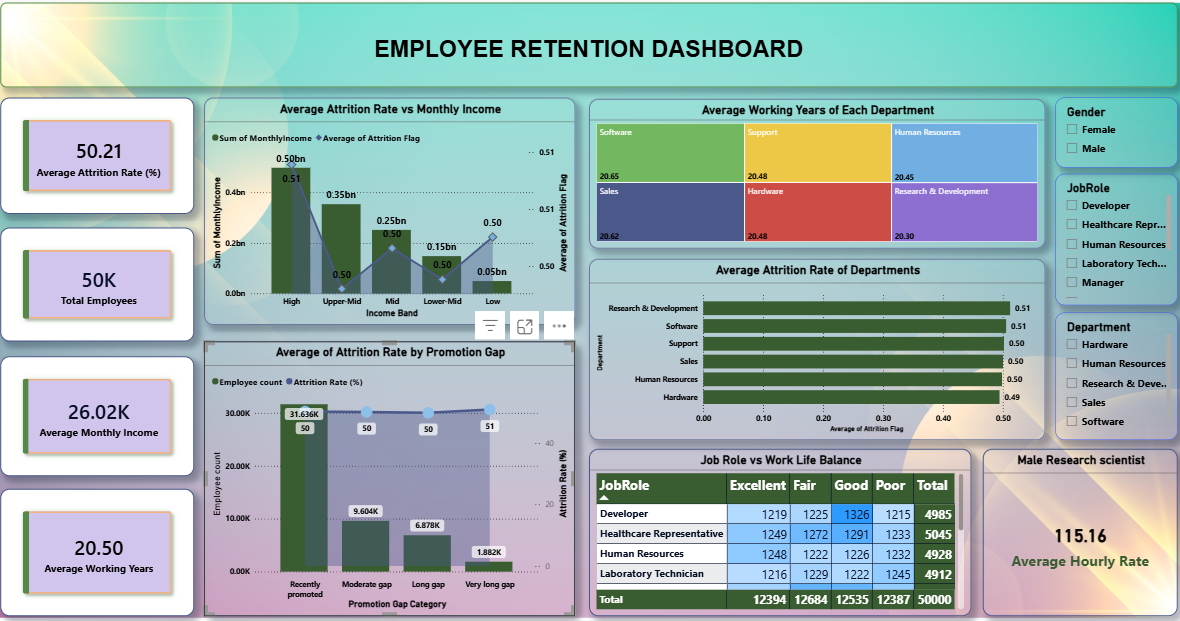

The page's visual inventory and layout, read from the dashboard file:
{"tool":"powerbi","page":{"name":"Employee rentention DB","canvas":[1920,1080],"ordinal":6},"visuals":[{"type":"clusteredBarChart","title":"Average Attrition Rate of Departments","fields":{"Category":["HR 1.Department"],"Y":["Avg(HR 1.Attrition Flag)"]},"box":[960,454,730,290],"z":0},{"type":"card","title":"Male Research scientist ","fields":{"Values":["Avg(HR 1.HourlyRate)"]},"box":[1590,758,312,268],"z":1000},{"type":"slicer","fields":{"Values":["HR 1.Gender"]},"box":[1706,196,196,112],"z":2000},{"type":"lineClusteredColumnComboChart","title":"Average Attrition Rate vs  Monthly Income","fields":{"Category":["HR 2.Income Band"],"Y":["Sum(HR 2.MonthlyIncome)"],"Y2":["Avg(HR 1.Attrition Flag)"]},"box":[344,196,594,364],"z":3000},{"type":"treemap","title":"Average Working Years of Each Department","fields":{"Group":["HR 1.Department"],"Values":["Avg(HR 2.TotalWorkingYears)"]},"box":[960,198,730,240],"z":4000},{"type":"lineClusteredColumnComboChart","title":"Average of Attrition Rate by Promotion Gap","fields":{"Category":["HR 2.Promotion Gap Category"],"Y":["HR 2.Employee count"],"Y2":["HR 1.Attrition Rate (%)"]},"box":[344,586,594,440],"z":5000},{"type":"cardVisual","fields":{"Data":["HR 1.Attrition Rate (%)"]},"box":[18,196,310,186],"z":6000},{"type":"cardVisual","fields":{"Data":["Sum(HR 1.EmployeeCount)"]},"box":[18,404,310,182],"z":7000},{"type":"cardVisual","fields":{"Data":["Avg(HR 2.MonthlyIncome)"]},"box":[18,610,310,192],"z":8000},{"type":"cardVisual","fields":{"Data":["Avg(HR 2.TotalWorkingYears)"]},"box":[18,822,310,204],"z":9000},{"type":"slicer","fields":{"Values":["HR 1.JobRole"]},"box":[1706,318,196,210],"z":10000},{"type":"slicer","fields":{"Values":["HR 1.Department"]},"box":[1706,540,196,204],"z":11000},{"type":"textbox","box":[18,44,1884,136],"z":12000},{"type":"pivotTable","title":"Job Role vs Work Life Balance","fields":{"Rows":["HR 1.JobRole"],"Columns":["HR 2.WorkLifeBalance Category"],"Values":["CountNonNull(HR 2.Employee ID)"]},"box":[960,758,612,268],"z":13000}]}

Visuals, with their boxes on the page's 1920x1080 design canvas (x1, y1, x2, y2). These are canvas units, not pixel positions in the 1180x621 screenshot, which may show the page scaled, cropped or inside an application window:
"Average Attrition Rate of Departments" clusteredBarChart: [x1=960, y1=454, x2=1690, y2=744]
"Male Research scientist " card: [x1=1590, y1=758, x2=1902, y2=1026]
slicer - HR 1.Gender: [x1=1706, y1=196, x2=1902, y2=308]
"Average Attrition Rate vs  Monthly Income" lineClusteredColumnComboChart: [x1=344, y1=196, x2=938, y2=560]
"Average Working Years of Each Department" treemap: [x1=960, y1=198, x2=1690, y2=438]
"Average of Attrition Rate by Promotion Gap" lineClusteredColumnComboChart: [x1=344, y1=586, x2=938, y2=1026]
cardVisual - HR 1.Attrition Rate (%): [x1=18, y1=196, x2=328, y2=382]
cardVisual - Sum(HR 1.EmployeeCount): [x1=18, y1=404, x2=328, y2=586]
cardVisual - Avg(HR 2.MonthlyIncome): [x1=18, y1=610, x2=328, y2=802]
cardVisual - Avg(HR 2.TotalWorkingYears): [x1=18, y1=822, x2=328, y2=1026]
slicer - HR 1.JobRole: [x1=1706, y1=318, x2=1902, y2=528]
slicer - HR 1.Department: [x1=1706, y1=540, x2=1902, y2=744]
textbox: [x1=18, y1=44, x2=1902, y2=180]
"Job Role vs Work Life Balance" pivotTable: [x1=960, y1=758, x2=1572, y2=1026]
